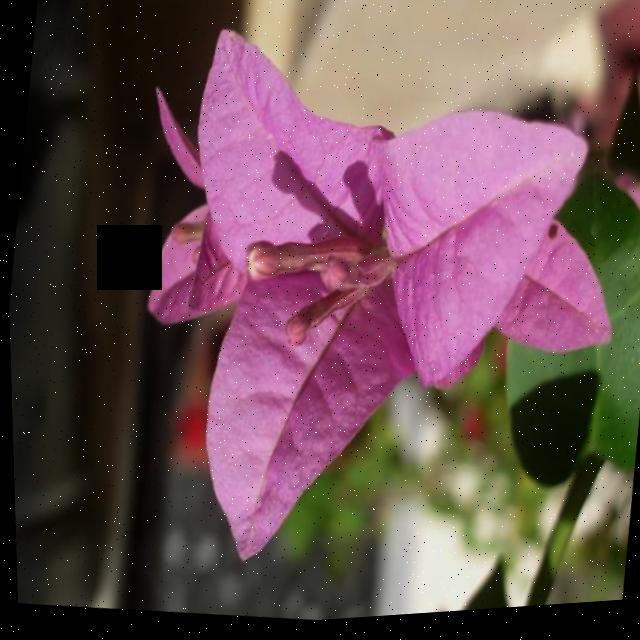bougainvillea: (68, 0, 640, 636)
